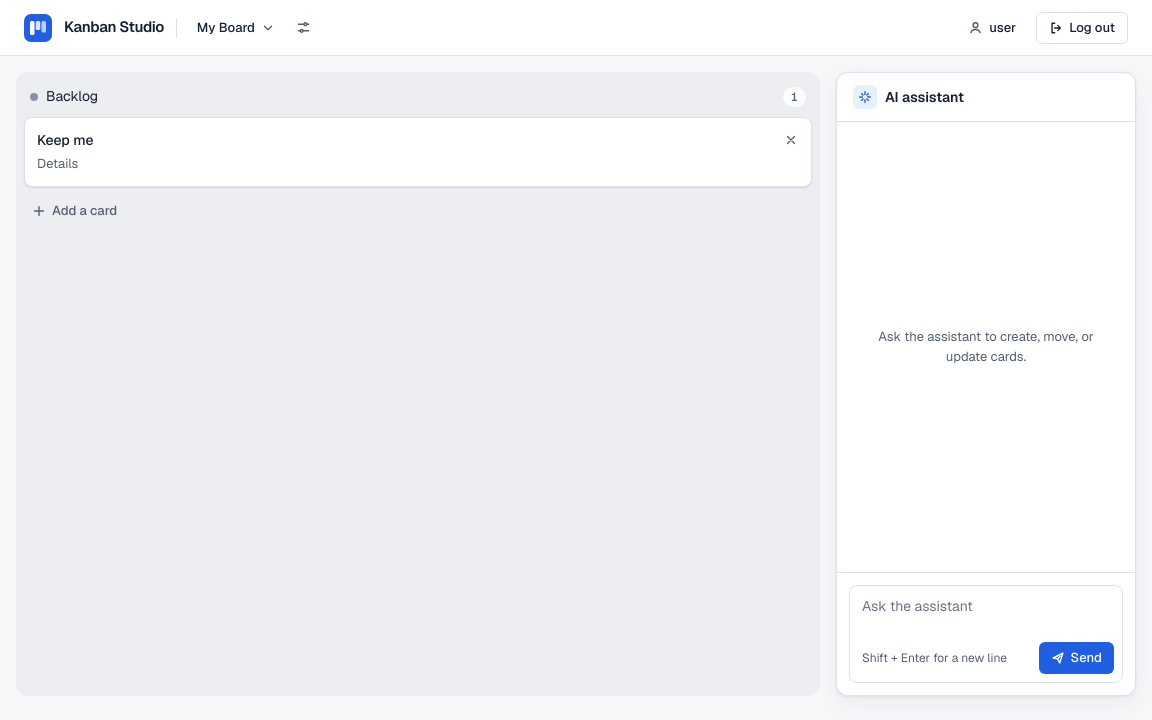
Test: Home page: board errors are shown › tells the user when a card cannot be deleted, and restores it
Click the button named "delete keep me".
click(791, 140)  # box [779,128,803,152]
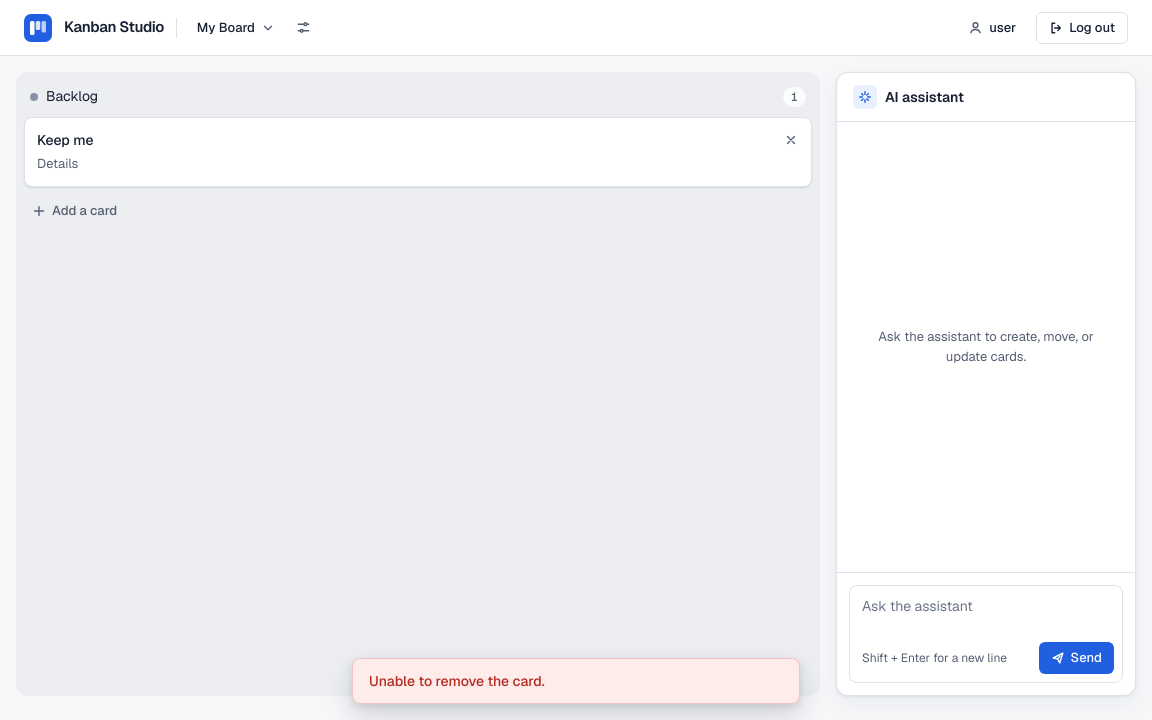
Expected: the heading "Keep me" is shown, [37,130,94,150]
Result: the message reads "Unable to remove the card." at [369,672,545,690]
